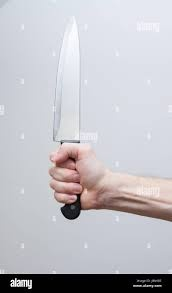knife: (52, 14, 82, 220)
